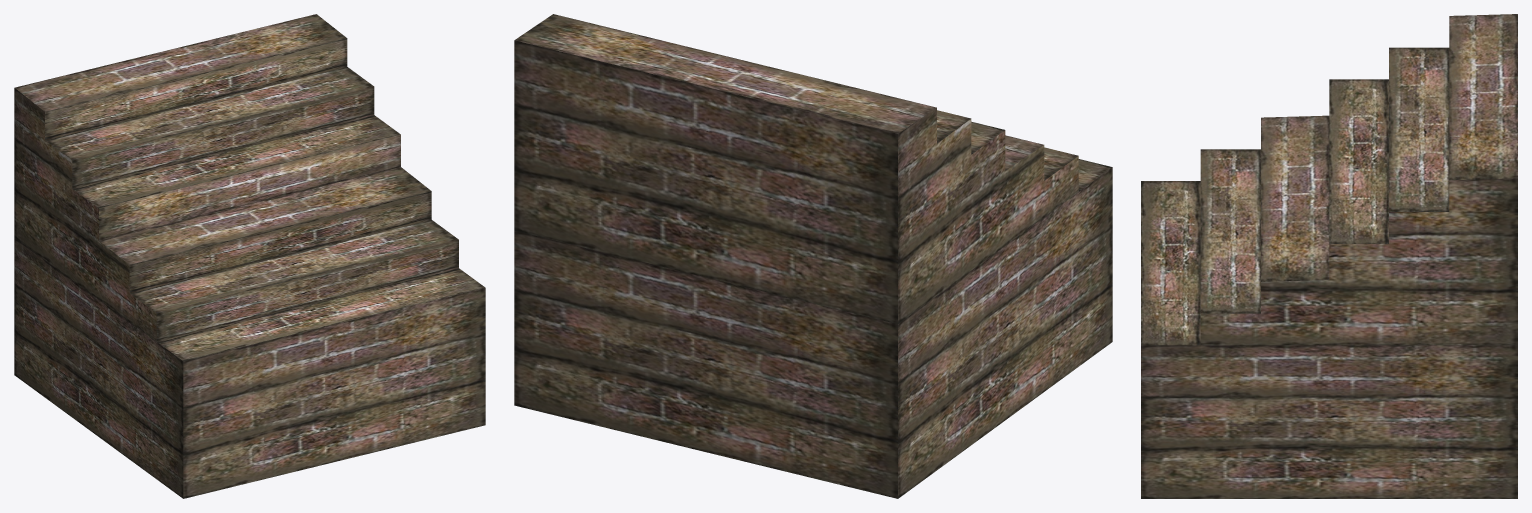
The model's file is brick_stairs_double.fbx.
The picture shows the model from 3 angles, left to right: view 1: azimuth 30°, elevation 25°; view 2: azimuth 150°, elevation 25°; view 3: azimuth 270°, elevation 25°; orthographic projection. The views are drawn at different scales.
Parts seen in each view (by area): view 1: brick_stairs, sides; view 2: sides, brick_stairs; view 3: sides, brick_stairs.
Part boxes in pixels (x1,y1,x2,y2): brick_stairs: (15,14,484,361); sides: (14,88,485,498); sides: (514,40,1112,498); brick_stairs: (515,14,1112,191); sides: (1141,178,1517,498); brick_stairs: (1141,14,1517,345).
Bounding box in the file's own units: 1150 × 1046 × 1114.
Materials: 1 (1 with a texture image).
